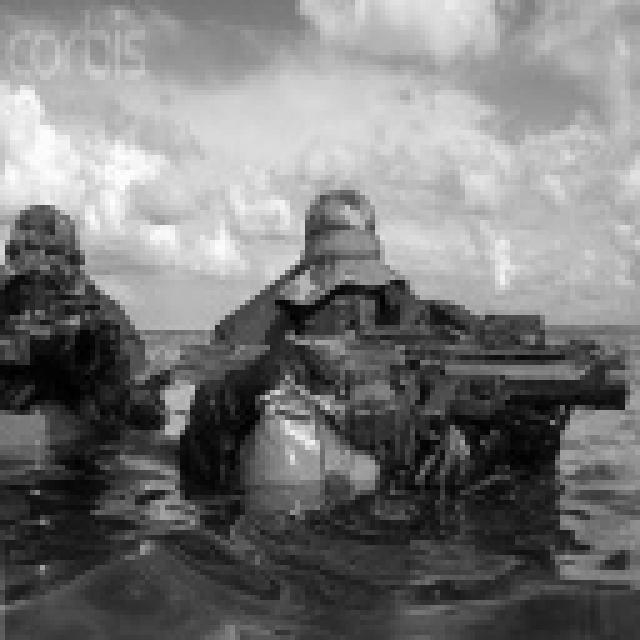Rifle: (290, 250, 640, 470), (0, 251, 139, 407)
